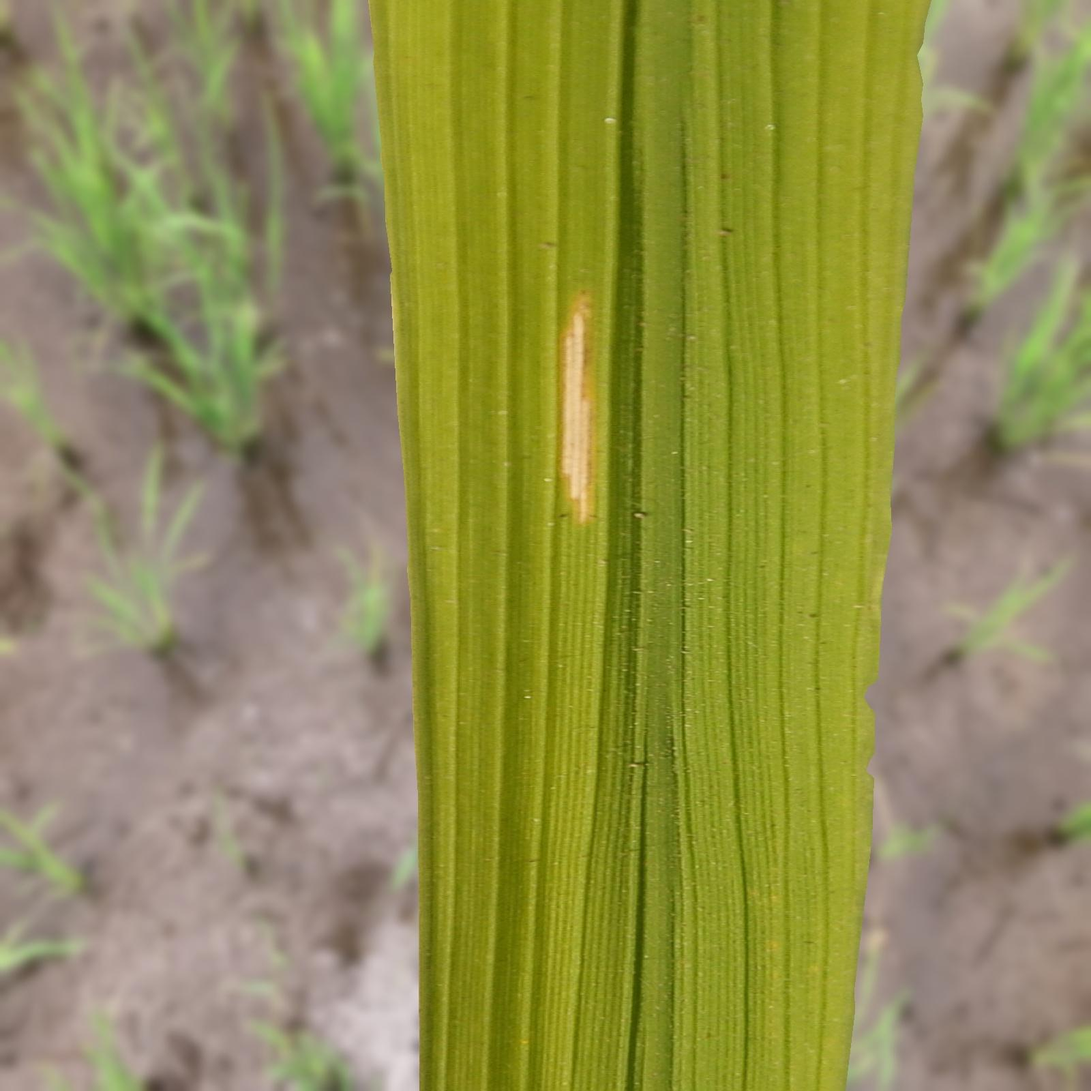BLS: (561, 293, 594, 522)
LEAF: (368, 0, 931, 1090)
